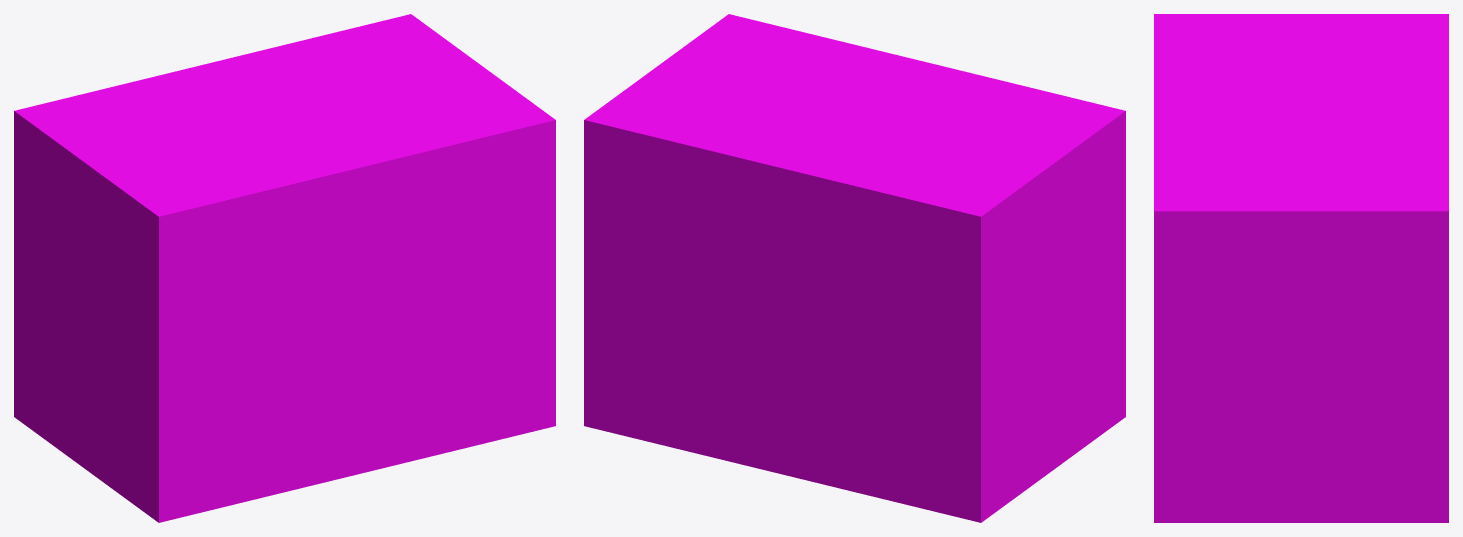
File: PRP_Storage_Chest_A.glb
The picture shows the model from 3 angles, left to right: view 1: azimuth 30°, elevation 25°; view 2: azimuth 150°, elevation 25°; view 3: azimuth 270°, elevation 25°; orthographic projection.
Visible parts, largest first — view 1: COL_Chest; view 2: COL_Chest; view 3: COL_Chest.
Part boxes in pixels (x1,y1,x2,y2): COL_Chest: (14, 14, 555, 522); COL_Chest: (584, 14, 1125, 522); COL_Chest: (1154, 14, 1448, 522).
Bounding box in the file's own units: 0.95 × 0.7 × 0.6.
